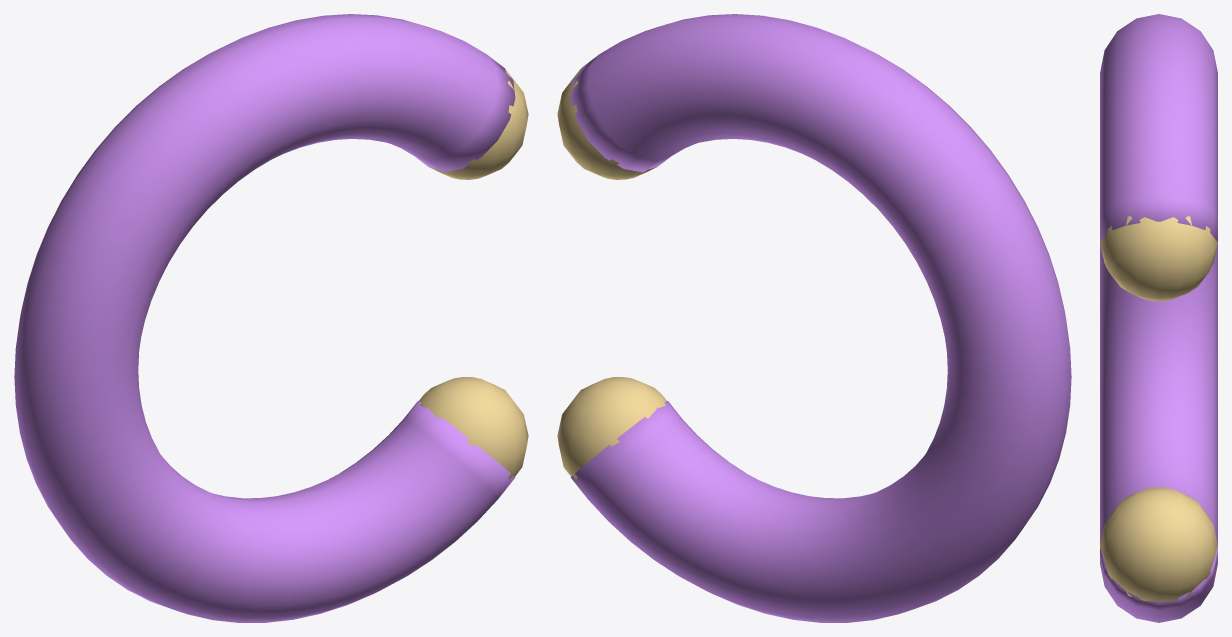
The model's file is mini-arc-BS6SkHRH.glb.
3 views of the same model, side by side, from view 1: azimuth 30°, elevation 25°; view 2: azimuth 150°, elevation 25°; view 3: azimuth 270°, elevation 25° (orthographic). The views are drawn at different scales.
Visible parts, largest first — view 1: R3D_mini-arc_Body_0, R3D_mini-arc_Tip_1, R3D_mini-arc_Tip_0; view 2: R3D_mini-arc_Body_0, R3D_mini-arc_Tip_1, R3D_mini-arc_Tip_0; view 3: R3D_mini-arc_Body_0, R3D_mini-arc_Tip_1, R3D_mini-arc_Tip_0.
Part boxes in pixels (x1,y1,x2,y2): R3D_mini-arc_Body_0: (14,14,515,622); R3D_mini-arc_Tip_1: (419,377,528,479); R3D_mini-arc_Tip_0: (429,69,528,179); R3D_mini-arc_Body_0: (570,14,1071,622); R3D_mini-arc_Tip_1: (557,377,666,479); R3D_mini-arc_Tip_0: (557,69,656,179); R3D_mini-arc_Body_0: (1100,14,1217,622); R3D_mini-arc_Tip_1: (1100,487,1217,601); R3D_mini-arc_Tip_0: (1100,216,1217,301).
Bounding box in the file's own units: 1.11 × 1.24 × 0.24.
